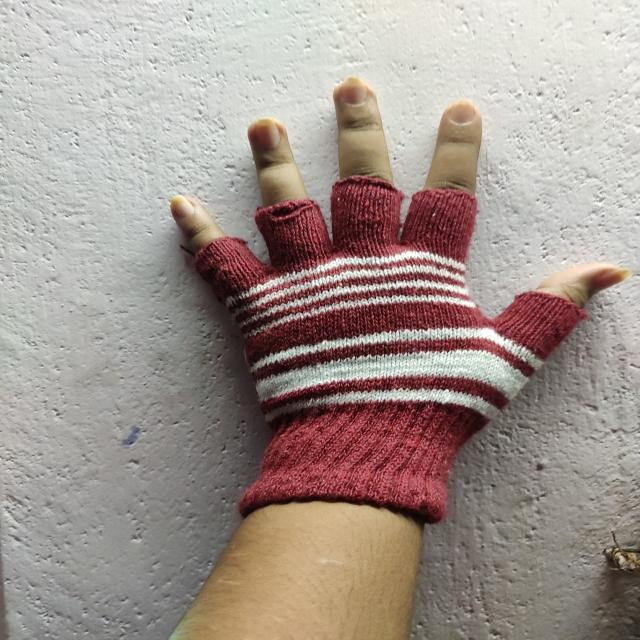glove_hand: (186, 176, 583, 527), (600, 173, 601, 176)
